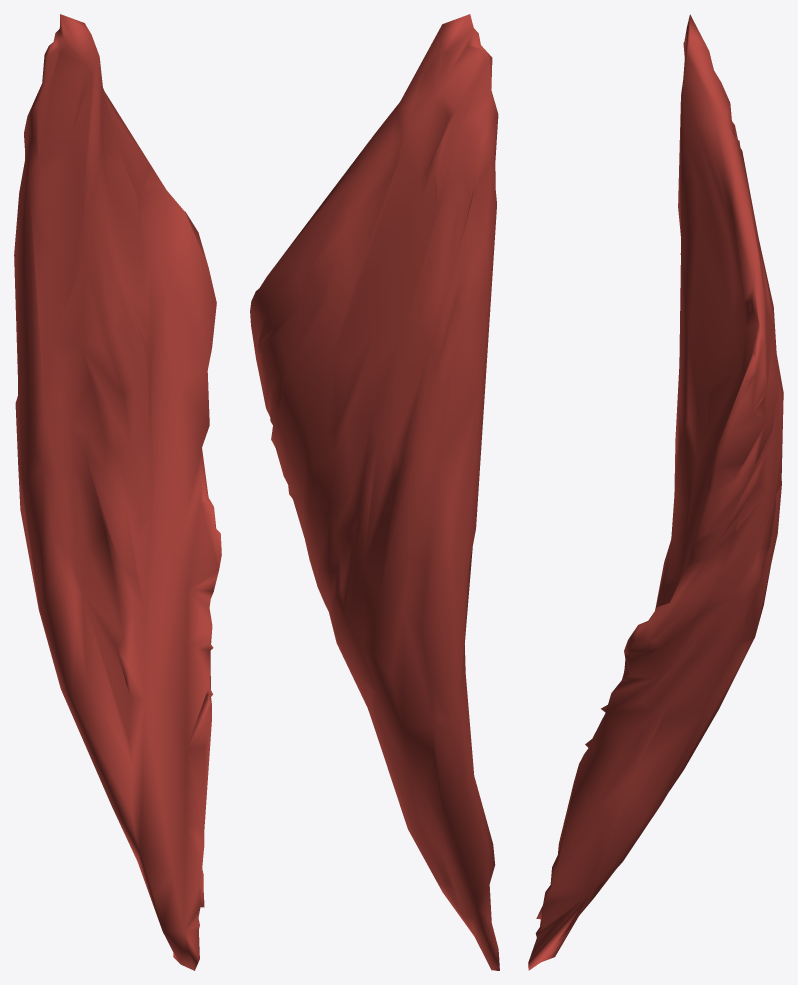
The model's file is musculos-anconeus-muscle-r.glb.
3 views of the same model, side by side, from view 1: azimuth 30°, elevation 25°; view 2: azimuth 150°, elevation 25°; view 3: azimuth 270°, elevation 25° (orthographic). The views are drawn at different scales.
Parts seen in each view (by area): view 1: Anconeus muscle.r; view 2: Anconeus muscle.r; view 3: Anconeus muscle.r.
Boxes of the visible parts, left/top/right/bottom form: Anconeus muscle.r: left=14, top=14, right=221, bottom=970; Anconeus muscle.r: left=250, top=14, right=499, bottom=970; Anconeus muscle.r: left=528, top=14, right=783, bottom=970.
Size of the model in its own units: 0.0238 by 0.1045 by 0.026.
